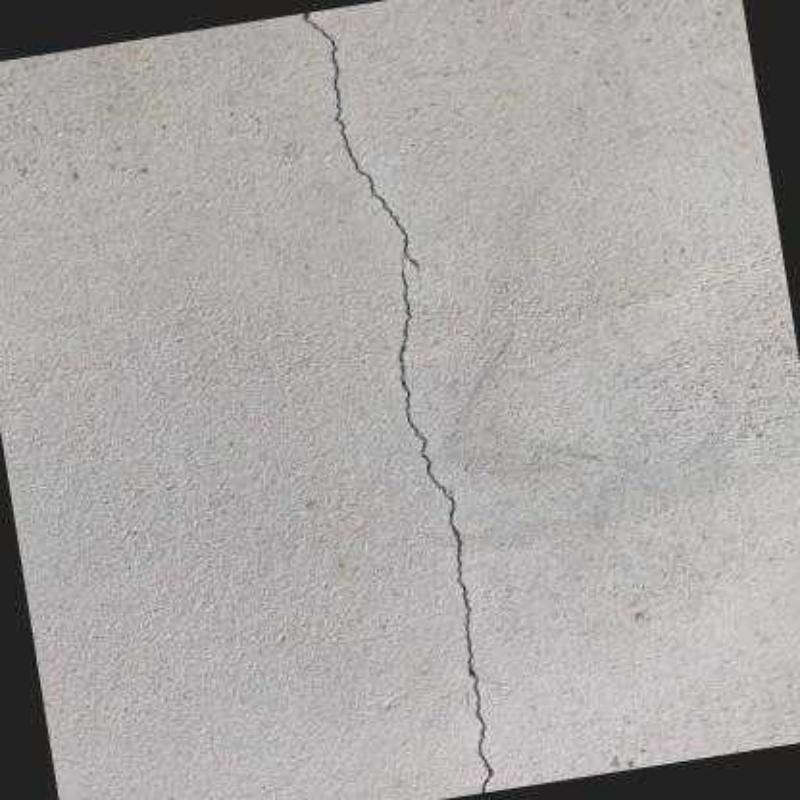pothole: (300, 9, 494, 793)
